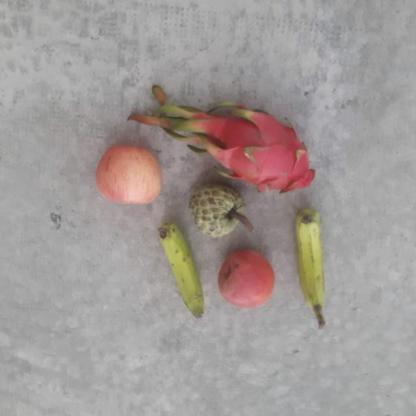annona: (187, 182, 250, 240)
apple: (96, 140, 163, 210), (216, 247, 278, 309)
banana: (155, 221, 210, 320), (289, 208, 335, 308)
pitaya: (206, 106, 316, 192)
